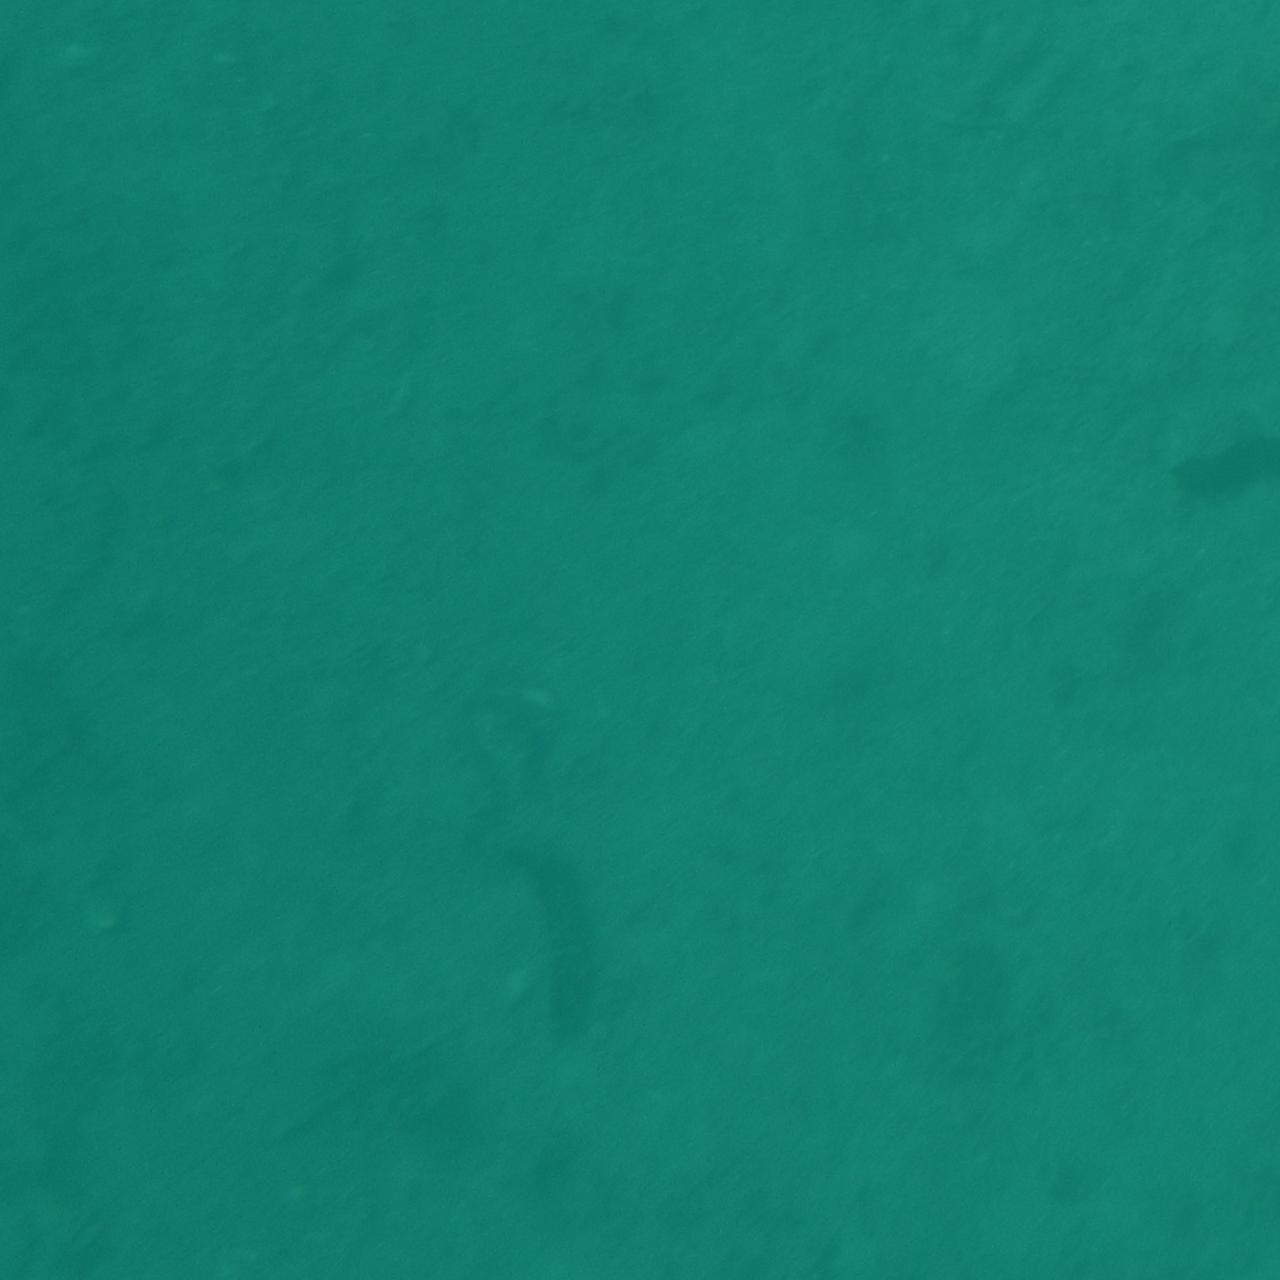Holothuria tubulosa: (498, 813, 626, 1092), (0, 925, 96, 1157), (1169, 165, 1280, 313), (1182, 411, 1280, 512)
